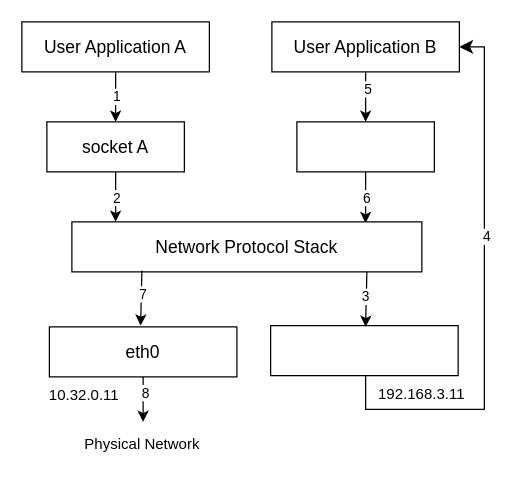
Some shapes in this 519 by 485 pixel diagram are drawn without their labels. Here are the shapes that lost their labels. From the top down, the box of each, then its label:
(296, 121, 434, 172): socket B
(269, 324, 458, 376): tun0
